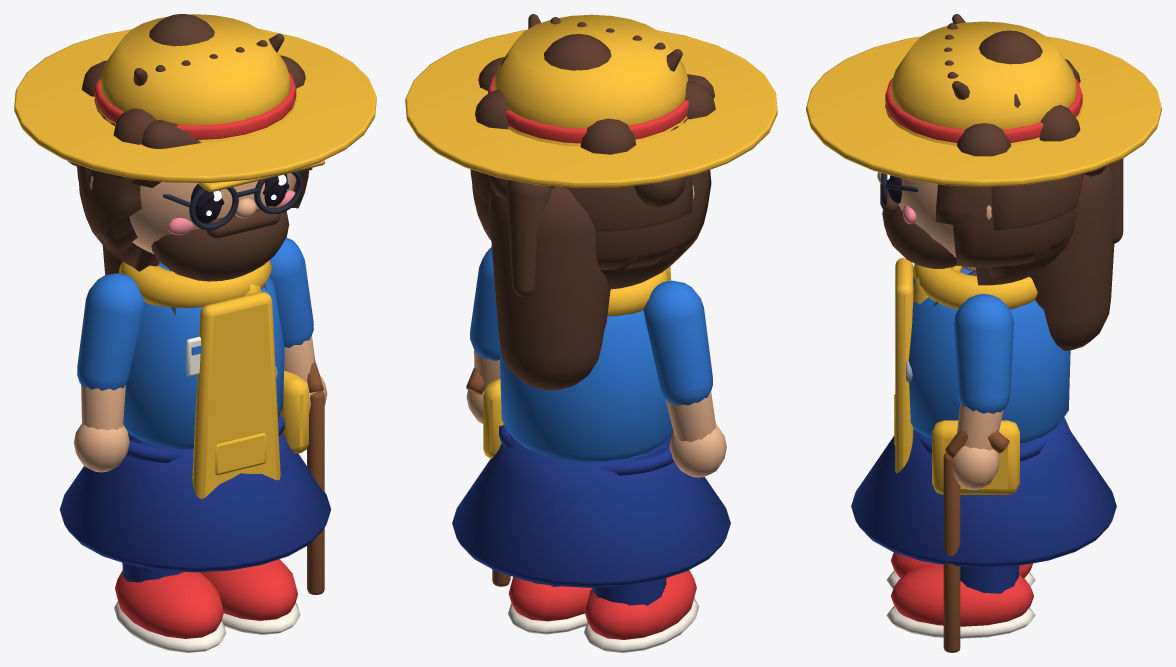
File: adult.glb
3 renders of one model, left to right at view 1: azimuth 30°, elevation 25°; view 2: azimuth 150°, elevation 25°; view 3: azimuth 270°, elevation 25°, orthographic. The views are drawn at different scales.
Parts seen in each view (by area): view 1: Acc_sunhat_Accent, Acc_skirt_Bottom, Acc_apron_Accent, Body_Top, Acc_beard_Hair, ArmL_Top, LegL_Shoes, LegR_Shoes, Acc_scarf_Accent, Head_Skin, ArmL_Skin, ArmR_Top (+18 smaller); view 2: Acc_sunhat_Accent, Acc_skirt_Bottom, Hair_long_Hair, Body_Top, Hair_curls_Hair, ArmL_Top, LegL_Shoes, ArmL_Skin, Hair_bob_Hair, Hair_pony_Hair, LegR_Shoes, ArmR_Top (+11 smaller); view 3: Acc_sunhat_Accent, Acc_skirt_Bottom, Hair_long_Hair, Body_Top, Hair_curls_Hair, ArmR_Top, LegR_Shoes, Hair_bob_Hair, Acc_cane_Gloss, Acc_apron_Accent, Acc_scarf_Accent, ArmR_Skin (+10 smaller).
Part boxes in pixels (left/top/right/bottom): Acc_sunhat_Accent: left=14, top=14, right=376, bottom=182; Acc_skirt_Bottom: left=59, top=432, right=331, bottom=572; Acc_apron_Accent: left=192, top=292, right=280, bottom=498; Body_Top: left=123, top=262, right=284, bottom=449; Acc_beard_Hair: left=151, top=205, right=289, bottom=281; ArmL_Top: left=77, top=273, right=144, bottom=390; LegL_Shoes: left=115, top=571, right=223, bottom=638; LegR_Shoes: left=200, top=559, right=297, bottom=620; Acc_scarf_Accent: left=119, top=260, right=271, bottom=307; Head_Skin: left=89, top=173, right=296, bottom=253; ArmL_Skin: left=74, top=384, right=129, bottom=472; ArmR_Top: left=269, top=237, right=313, bottom=347; Acc_sunhat_Accent: left=405, top=14, right=777, bottom=188; Acc_skirt_Bottom: left=452, top=433, right=730, bottom=587; Hair_long_Hair: left=472, top=170, right=711, bottom=390; Body_Top: left=500, top=310, right=673, bottom=461; Hair_curls_Hair: left=470, top=54, right=715, bottom=231; ArmL_Top: left=643, top=280, right=712, bottom=405; LegL_Shoes: left=584, top=570, right=696, bottom=639; ArmL_Skin: left=665, top=391, right=726, bottom=477; Hair_bob_Hair: left=480, top=170, right=710, bottom=270; Hair_pony_Hair: left=506, top=180, right=555, bottom=297; LegR_Shoes: left=508, top=577, right=592, bottom=621; ArmR_Top: left=470, top=247, right=500, bottom=360; Acc_sunhat_Accent: left=806, top=21, right=1161, bottom=186; Acc_skirt_Bottom: left=851, top=417, right=1116, bottom=567; Hair_long_Hair: left=935, top=165, right=1115, bottom=350; Body_Top: left=908, top=268, right=1070, bottom=443; Hair_curls_Hair: left=957, top=59, right=1107, bottom=230; ArmR_Top: left=954, top=294, right=1013, bottom=413; LegR_Shoes: left=891, top=563, right=1033, bottom=626; Hair_bob_Hair: left=936, top=184, right=1076, bottom=267; Acc_cane_Gloss: left=943, top=430, right=1009, bottom=652; Acc_apron_Accent: left=894, top=258, right=963, bottom=473; Acc_scarf_Accent: left=912, top=264, right=1037, bottom=309; ArmR_Skin: left=952, top=403, right=1003, bottom=490.
Size of the model in its own units: 0.8925 by 1.6 by 0.8925.
